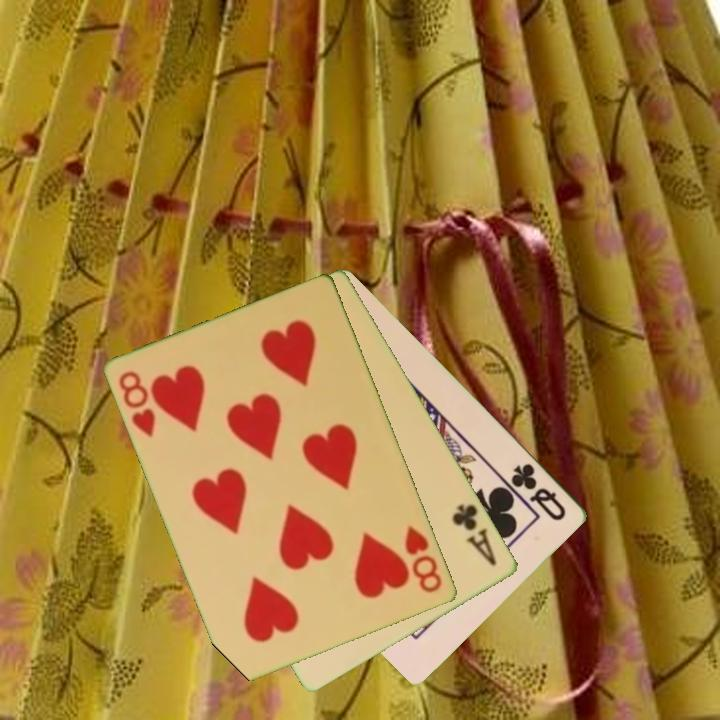8h: (401, 522, 446, 596), (115, 367, 159, 441)
Ac: (449, 500, 501, 569)
Qc: (507, 459, 570, 524)
